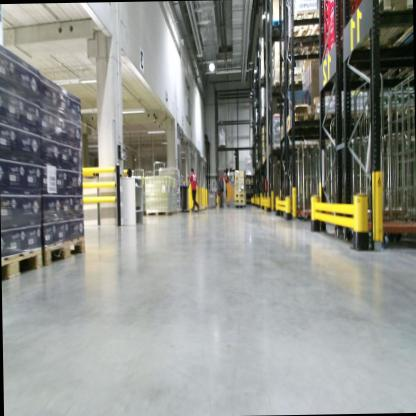forklift: (224, 145, 242, 208)
pallet: (347, 0, 412, 51), (267, 7, 324, 56), (2, 239, 45, 286), (39, 232, 86, 270), (314, 110, 344, 128), (291, 111, 320, 129), (346, 110, 371, 123), (143, 209, 173, 219), (270, 77, 288, 93), (287, 76, 306, 87), (273, 142, 291, 153), (301, 143, 319, 152), (291, 143, 304, 153), (171, 207, 177, 217), (177, 207, 184, 214)
